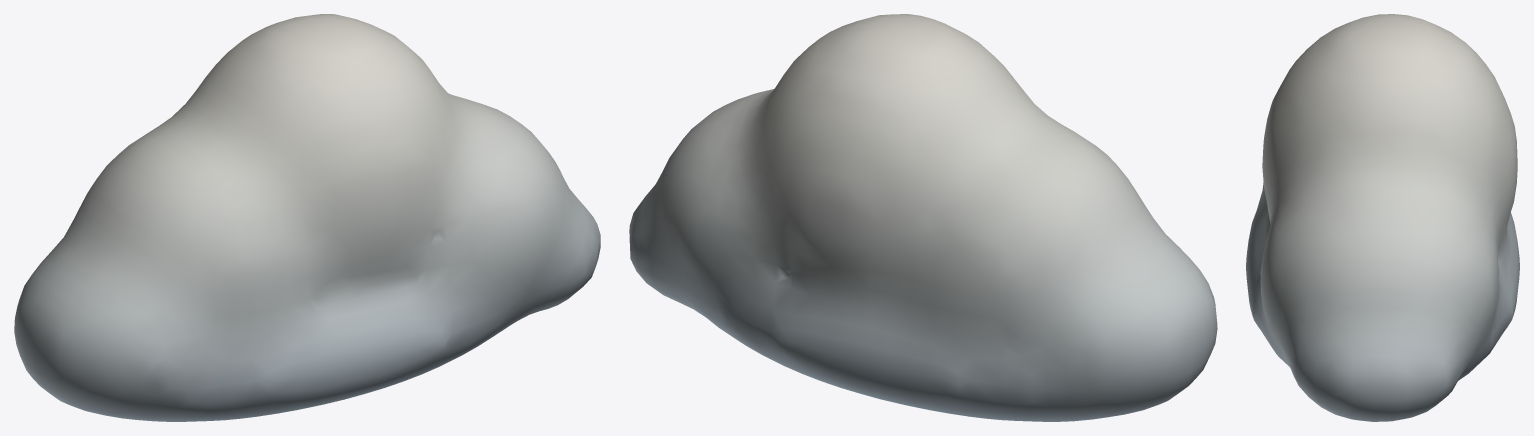
File: fw_cloud_cumulus.glb
3 renders of one model, left to right at view 1: azimuth 30°, elevation 25°; view 2: azimuth 150°, elevation 25°; view 3: azimuth 270°, elevation 25°, orthographic. The views are drawn at different scales.
Visible parts, largest first — view 1: body; view 2: body; view 3: body.
Part boxes in pixels (x1=…): body: x1=14, y1=14, x2=600, y2=421; body: x1=629, y1=14, x2=1217, y2=421; body: x1=1246, y1=14, x2=1519, y2=421.
Size of the model in its own units: 3.58 by 2.13 by 1.62.
